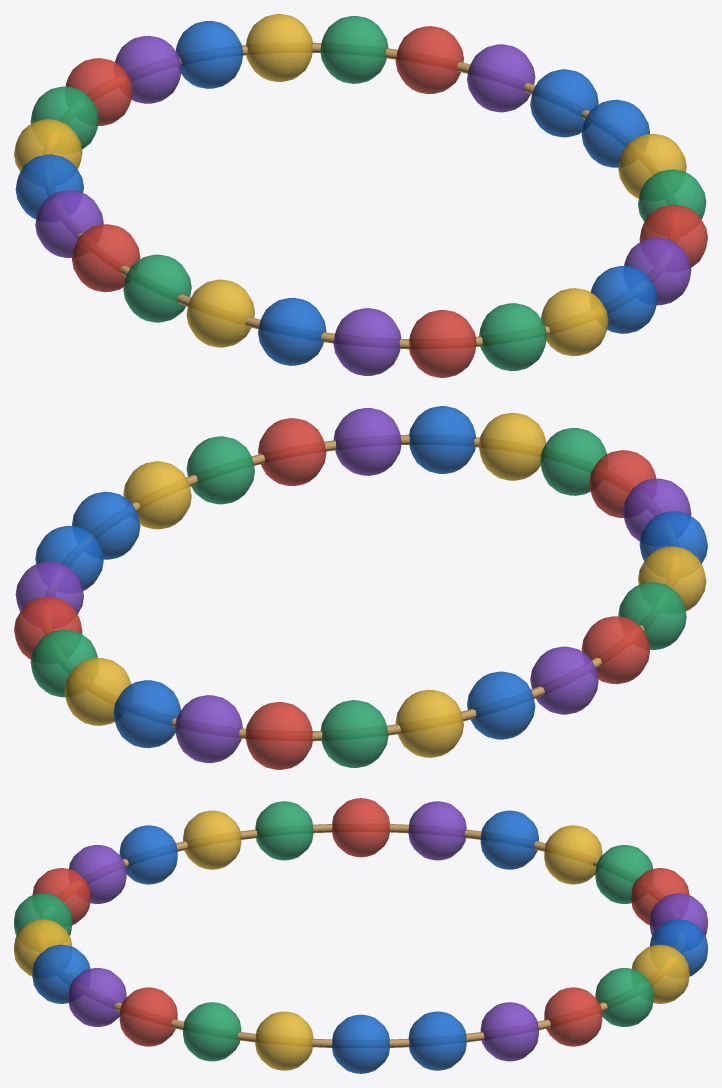
The model's file is beads.glb.
3 renders of one model, top to bottom at view 1: azimuth 30°, elevation 25°; view 2: azimuth 150°, elevation 25°; view 3: azimuth 270°, elevation 25°, orthographic. The views are drawn at different scales.
Parts seen in each view (by area): view 1: beads; view 2: beads; view 3: beads.
Boxes of the visible parts, left/top/right/bottom form: beads: left=14, top=14, right=707, bottom=377; beads: left=14, top=406, right=707, bottom=769; beads: left=14, top=798, right=707, bottom=1073.
Bounding box in the file's own units: 0.268 × 0.028 × 0.3251.
